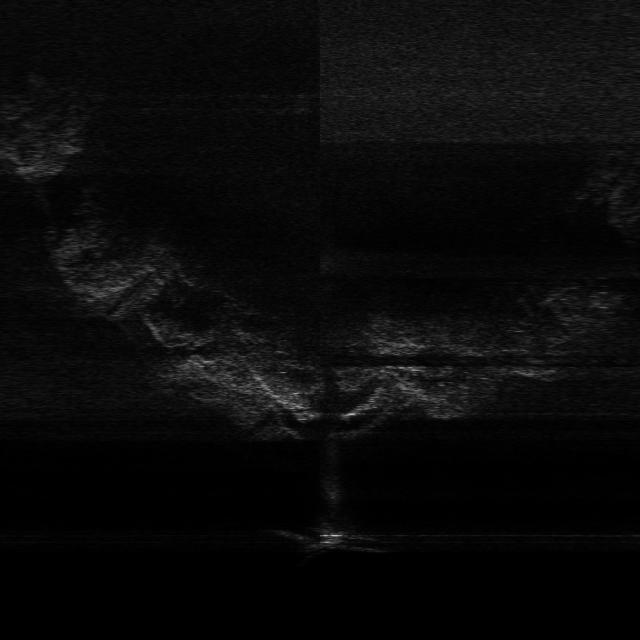plane: (267, 520, 387, 556)
